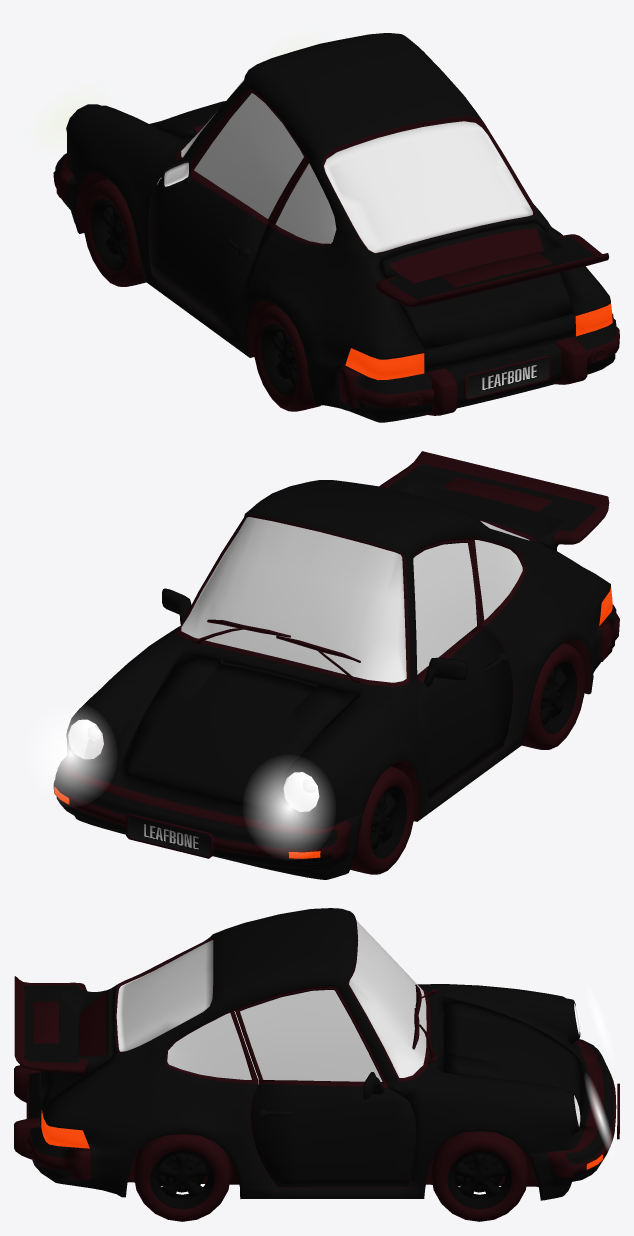
File: car_01b.glb
The picture shows the model from 3 angles, top to bottom: view 1: azimuth 30°, elevation 25°; view 2: azimuth 150°, elevation 25°; view 3: azimuth 270°, elevation 25°; orthographic projection. The views are drawn at different scales.
Parts seen in each view (by area): view 1: Object_5; view 2: Object_5; view 3: Object_5.
Part boxes in pixels (<box>): Object_5: <box>30,30,619,422</box>; Object_5: <box>30,451,619,879</box>; Object_5: <box>14,908,619,1221</box>.
Size of the model in its own units: 2.16 by 1.75 by 4.15.
9 materials, 2 textured.
